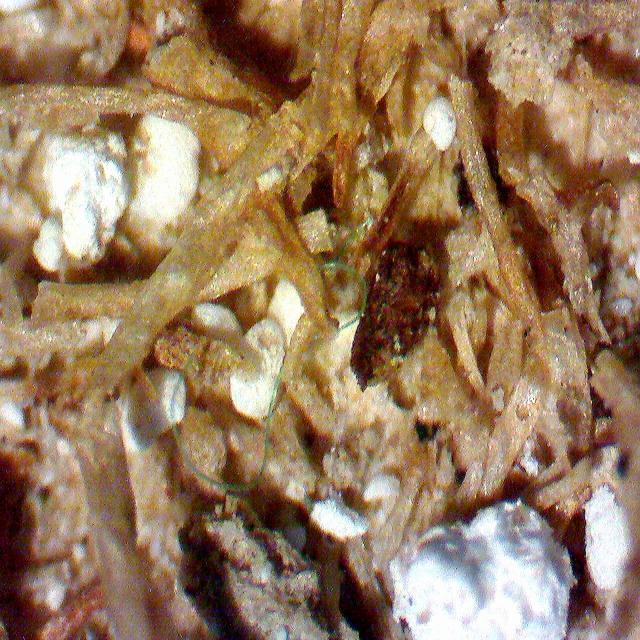microplastic: (130, 214, 385, 513)
